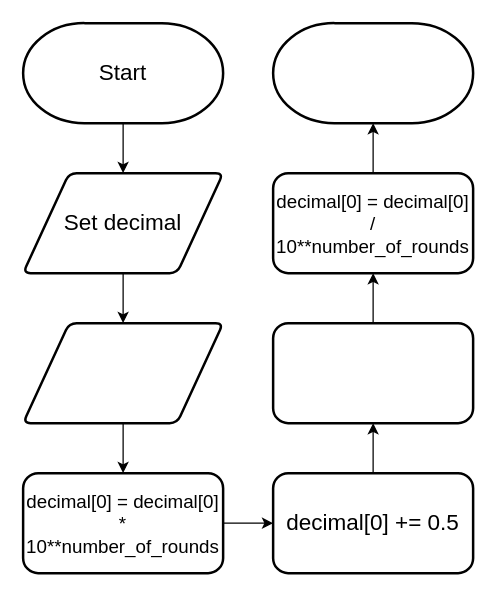
Some shapes in this 495 by 595 pixel diagram are drawn without their labels. The shapes that lost their labels are listed below. From the top down, each one's box as (x1, y1, x2, y2) in pixels, then its label:
(271, 21, 474, 124): Stop
(21, 321, 224, 424): Set number_of_rounds
(271, 321, 474, 424): decimal[0] = int(decimal[0])
